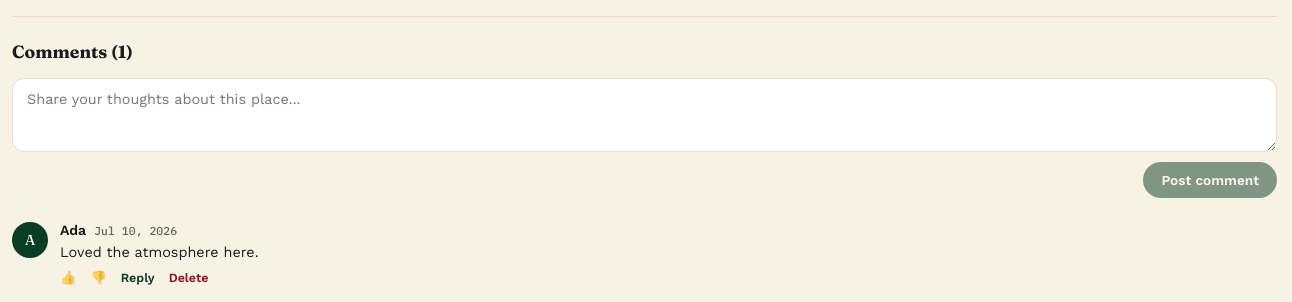
Test case: CommentSection › deletes a comment immediately without a confirmation dialog
The width and height of the screenshot is (1292, 302).
Expected: the text "Loved the atmosphere here." is shown, [60,244,258,260]
Click the button "Delete". click: x=189, y=277
box: [169,270,209,285]
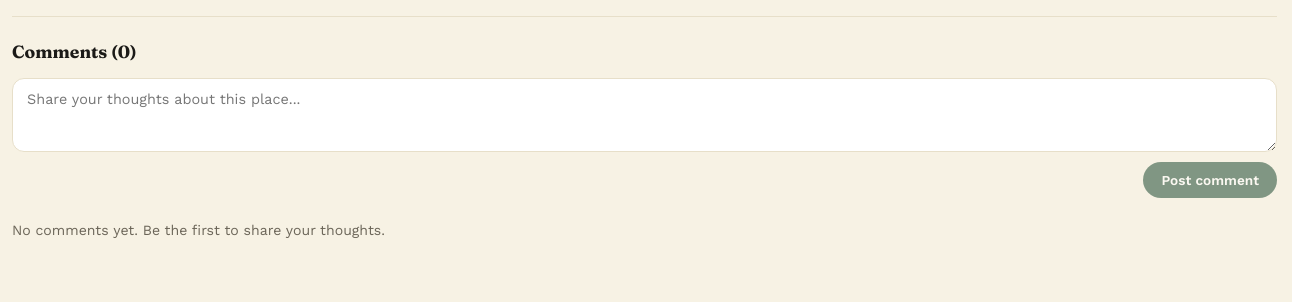
Expected: the text "Loved the atmosphere here." is gone
Expected: the heading "Comments (0)" is shown, [12,41,137,62]
